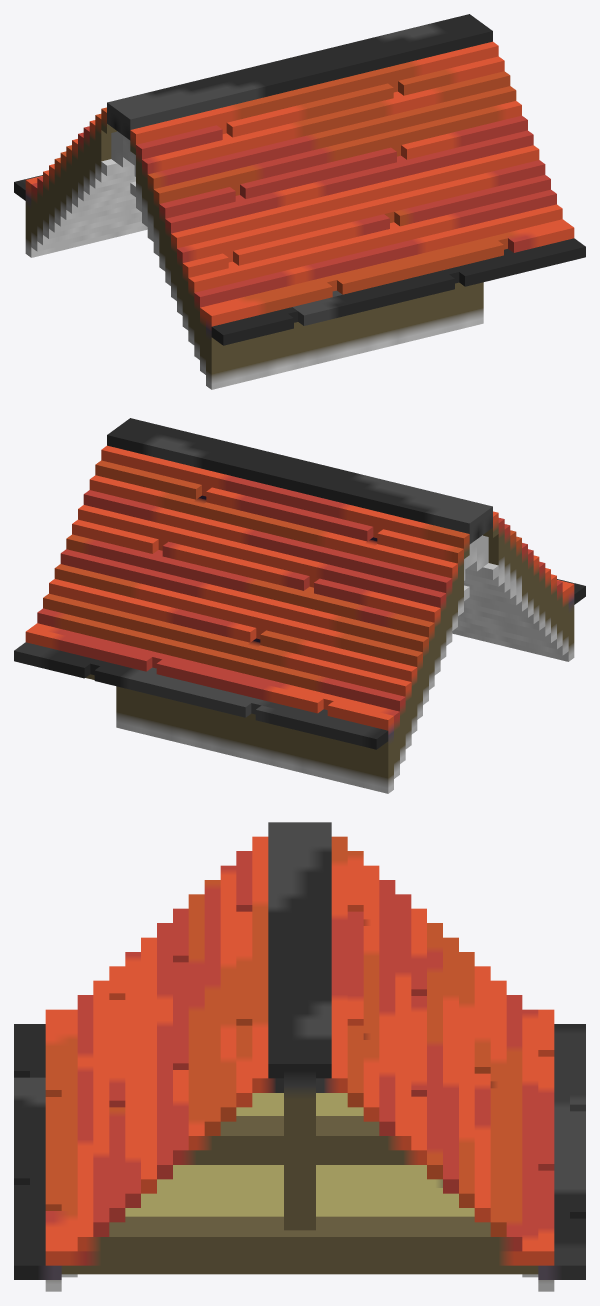
File: roof.dae
3 views of the same model, one above another, from view 1: azimuth 30°, elevation 25°; view 2: azimuth 150°, elevation 25°; view 3: azimuth 270°, elevation 25° (orthographic). The views are drawn at different scales.
Visible parts, largest first — view 1: pl0; view 2: pl0; view 3: pl0.
Boxes of the visible parts, x1,y1,x2,y2 form: pl0: (14,14,585,389); pl0: (14,418,585,793); pl0: (14,822,585,1291).
Bounding box in the file's own units: 36 × 36 × 20.
